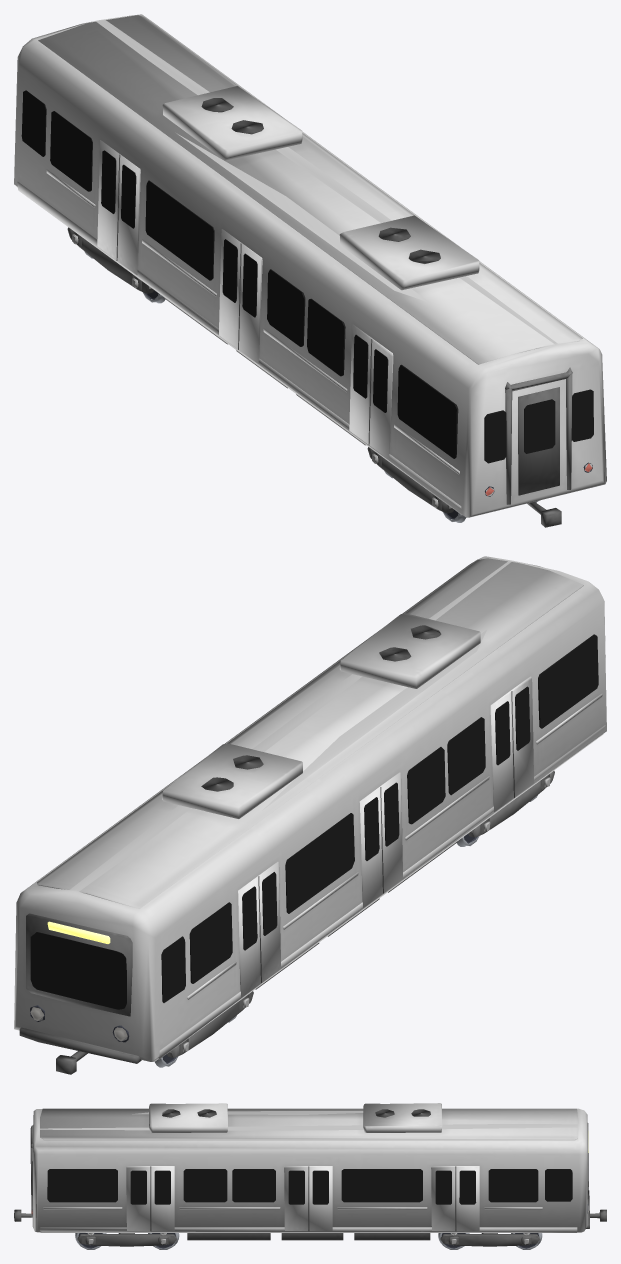
Rendered from train-colored.glb.
3 renders of one model, top to bottom at view 1: azimuth 30°, elevation 25°; view 2: azimuth 150°, elevation 25°; view 3: azimuth 270°, elevation 25°, orthographic. The views are drawn at different scales.
Visible parts, largest first — view 1: subway-car_body, subway-car_windows; view 2: subway-car_body, subway-car_windows; view 3: subway-car_body, subway-car_windows.
Part boxes in pixels (bbox=[...]): subway-car_body: bbox=[14, 14, 606, 527]; subway-car_windows: bbox=[21, 90, 593, 463]; subway-car_body: bbox=[14, 556, 606, 1074]; subway-car_windows: bbox=[30, 634, 598, 1009]; subway-car_body: bbox=[14, 1103, 606, 1246]; subway-car_windows: bbox=[32, 1153, 588, 1204].
Bounding box in the file's own units: 2.79 × 3.82 × 16.33.
Materials: 8 (1 with a texture image).
